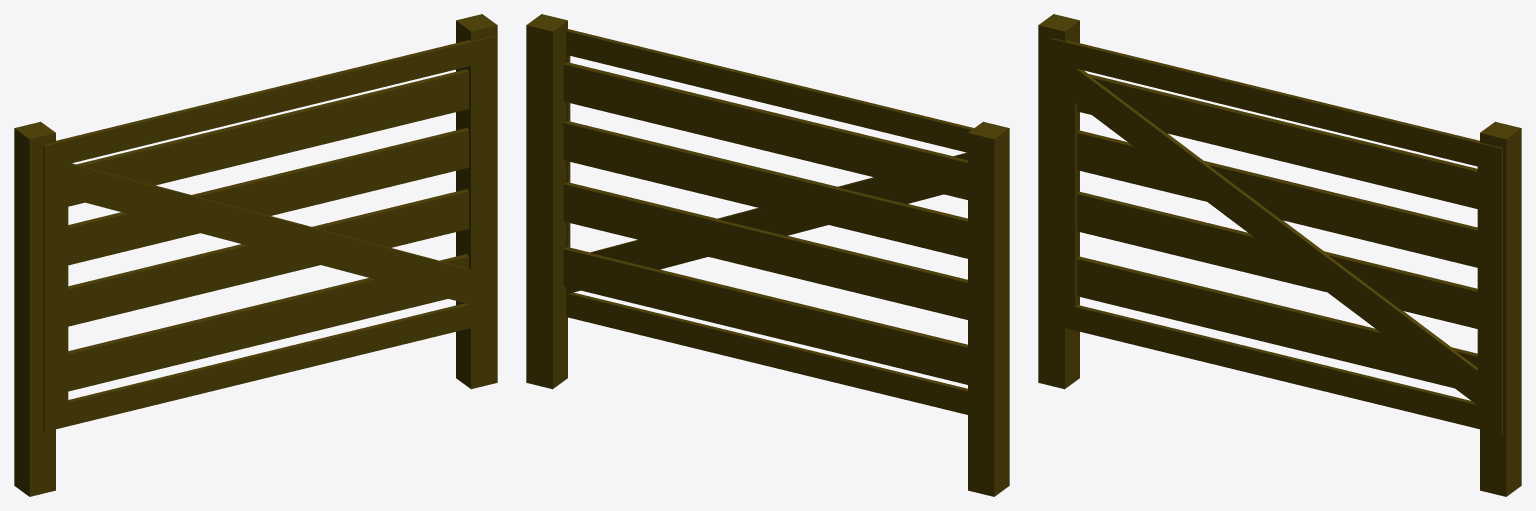
Rendered from Wooden Fence Both Posts.fbx.
3 views of the same model, side by side, from view 1: azimuth 30°, elevation 25°; view 2: azimuth 150°, elevation 25°; view 3: azimuth 330°, elevation 25° (orthographic).
Parts seen in each view (by area): view 1: pCube21, pCube12, pCube22; view 2: pCube21, pCube12, pCube22; view 3: pCube21, pCube22, pCube12.
Part boxes in pixels (box(x1,y1,x2,y2)): pCube21: box(43, 35, 494, 431); pCube12: box(14, 121, 55, 496); pCube22: box(456, 14, 497, 389); pCube21: box(563, 29, 973, 414); pCube12: box(968, 121, 1009, 496); pCube22: box(526, 14, 567, 389); pCube21: box(1051, 38, 1502, 434); pCube22: box(1480, 121, 1521, 496); pCube12: box(1038, 14, 1079, 389).
Bounding box in the file's own units: 3.54 × 2.59 × 0.2138.
